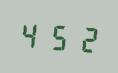five: (45, 19, 70, 53)
four: (18, 17, 43, 51)
two: (71, 20, 96, 55)
